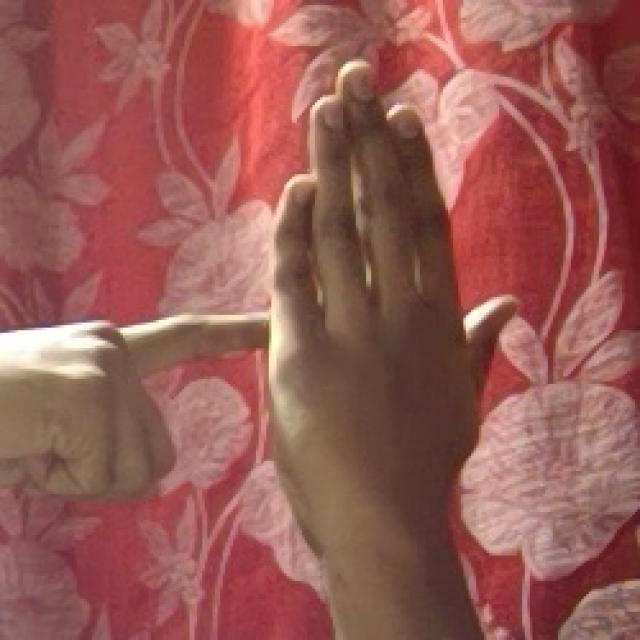Alphabet-R: (12, 49, 552, 523)
